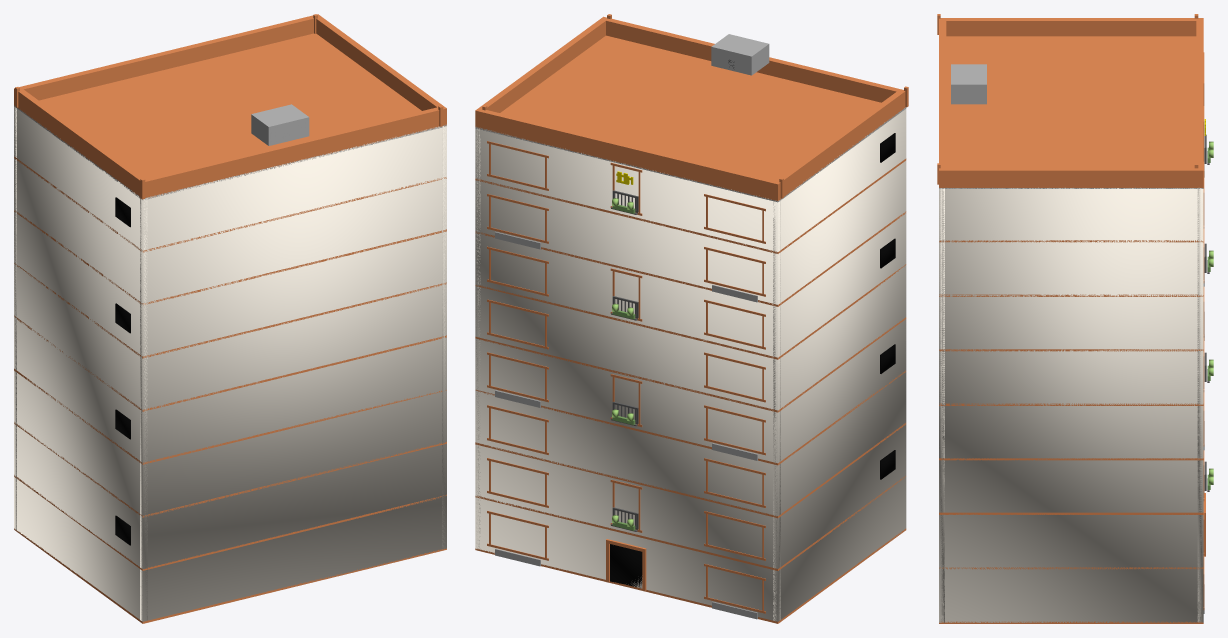
The model's file is Building_3_3.glb.
3 renders of one model, left to right at view 1: azimuth 30°, elevation 25°; view 2: azimuth 150°, elevation 25°; view 3: azimuth 270°, elevation 25°, orthographic. The views are drawn at different scales.
Parts seen in each view (by area): view 1: Wall_Back, Wall_Left, Floor_Band_8, Parapet_Back, Parapet_Front, Parapet_Left, Parapet_Right, Mech_Room, Wall_Right, Wall_Front, Floor_Band_0, Floor_Band_2 (+7 smaller); view 2: Wall_Front, Wall_Left, Floor_Band_8, Parapet_Front, Parapet_Back, Parapet_Left, Parapet_Right, Mech_Room, Entrance.Recess, Floor_Band_7, Floor_Band_4, Floor_Band_2 (+7 smaller); view 3: Wall_Right, Floor_Band_8, Parapet_Right, Parapet_Left, Wall_Front, Wall_Back, Mech_Room, Parapet_Back, Parapet_Front, Floor_Band_2, Floor_Band_3, Floor_Band_5 (+5 smaller).
Part boxes in pixels (left/top/right/bottom): Wall_Back: left=140, top=125, right=446, bottom=621; Wall_Left: left=14, top=106, right=147, bottom=621; Floor_Band_8: left=14, top=33, right=446, bottom=197; Parapet_Back: left=139, top=106, right=446, bottom=197; Parapet_Front: left=14, top=14, right=321, bottom=103; Parapet_Left: left=14, top=87, right=148, bottom=197; Parapet_Right: left=312, top=15, right=446, bottom=124; Mech_Room: left=251, top=104, right=309, bottom=145; Wall_Right: left=442, top=126, right=446, bottom=549; Wall_Front: left=14, top=107, right=16, bottom=530; Floor_Band_0: left=14, top=528, right=446, bottom=623; Floor_Band_2: left=14, top=422, right=446, bottom=517; Wall_Front: left=475, top=127, right=780, bottom=621; Wall_Left: left=773, top=108, right=906, bottom=621; Floor_Band_8: left=475, top=35, right=905, bottom=201; Parapet_Front: left=475, top=108, right=780, bottom=198; Parapet_Back: left=600, top=17, right=904, bottom=102; Parapet_Left: left=772, top=89, right=905, bottom=197; Parapet_Right: left=475, top=16, right=605, bottom=125; Mech_Room: left=711, top=34, right=769, bottom=75; Entrance.Recess: left=610, top=544, right=642, bottom=587; Floor_Band_7: left=475, top=158, right=906, bottom=253; Floor_Band_4: left=475, top=317, right=906, bottom=412; Floor_Band_2: left=475, top=423, right=905, bottom=518; Wall_Right: left=939, top=187, right=1203, bottom=622; Floor_Band_8: left=939, top=36, right=1203, bottom=187; Parapet_Right: left=939, top=167, right=1203, bottom=186; Parapet_Left: left=939, top=18, right=1203, bottom=36; Wall_Front: left=1197, top=188, right=1203, bottom=622; Wall_Back: left=939, top=188, right=944, bottom=622; Mech_Room: left=951, top=64, right=986, bottom=104; Parapet_Back: left=939, top=18, right=946, bottom=186; Parapet_Front: left=1196, top=18, right=1203, bottom=186; Floor_Band_2: left=939, top=512, right=1203, bottom=514; Floor_Band_3: left=939, top=458, right=1203, bottom=460; Floor_Band_5: left=939, top=349, right=1203, bottom=351.
Bounding box in the file's own units: 3.01 × 4.34 × 2.3.
